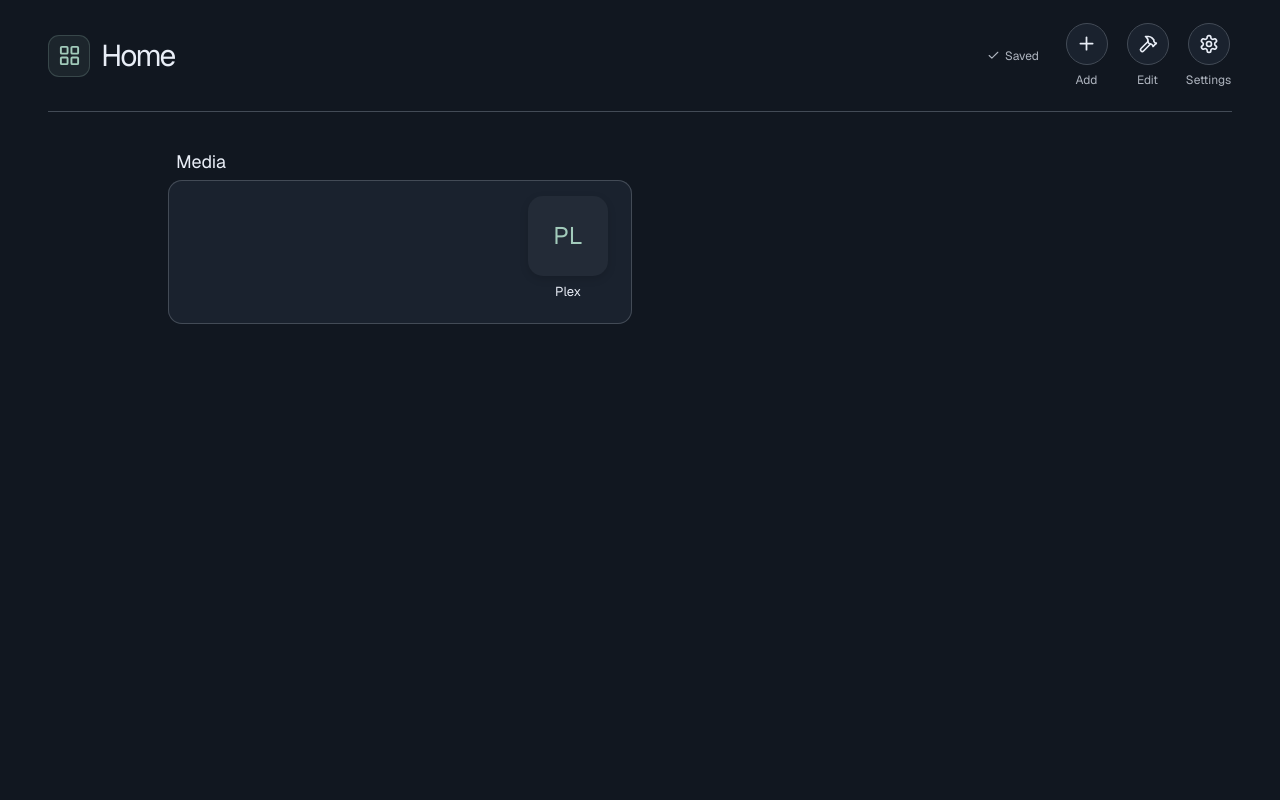
Test: interaction boundary › edits the external title inline without consuming slots
Click the button with aria-label "Edit dashboard": (1148, 56) top-left (1124, 22), bottom-right (1171, 88)
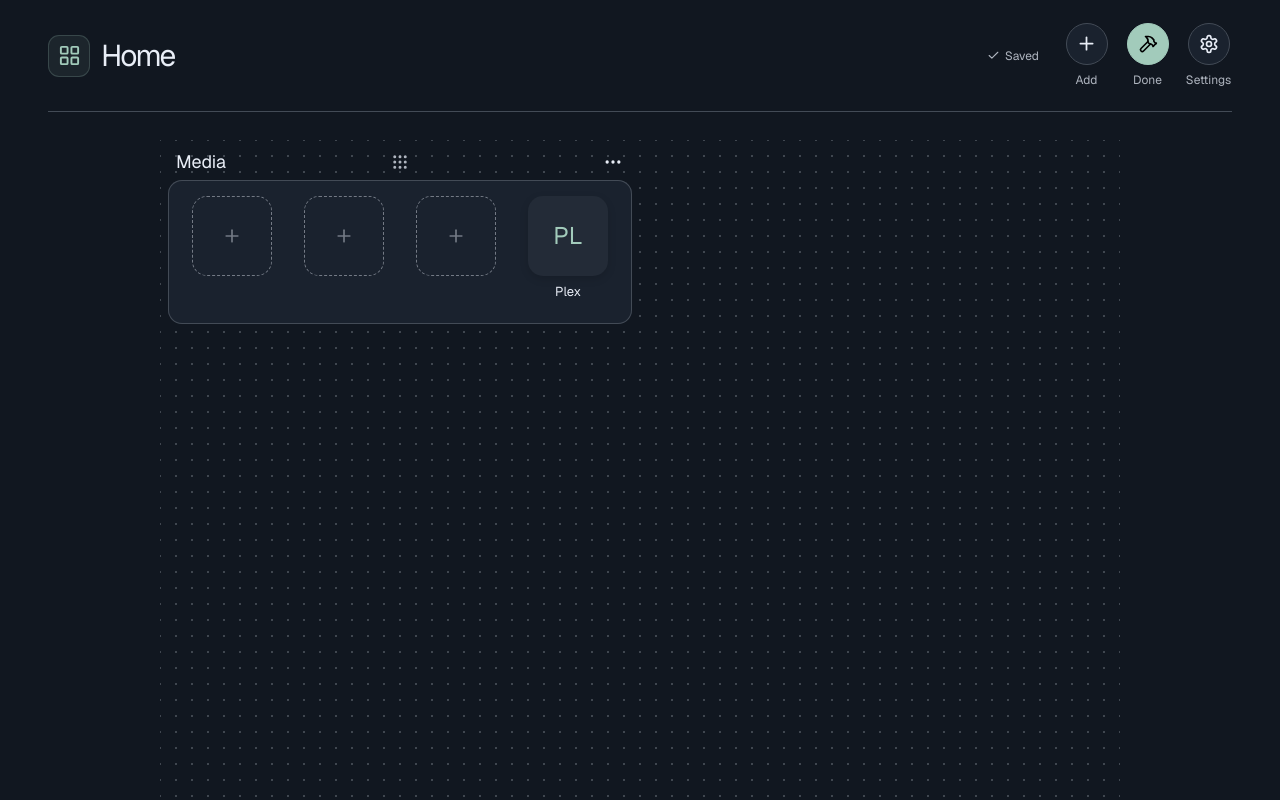
Click the button with aria-label "Edit title: Media": (274, 162) top-left (172, 148), bottom-right (376, 176)
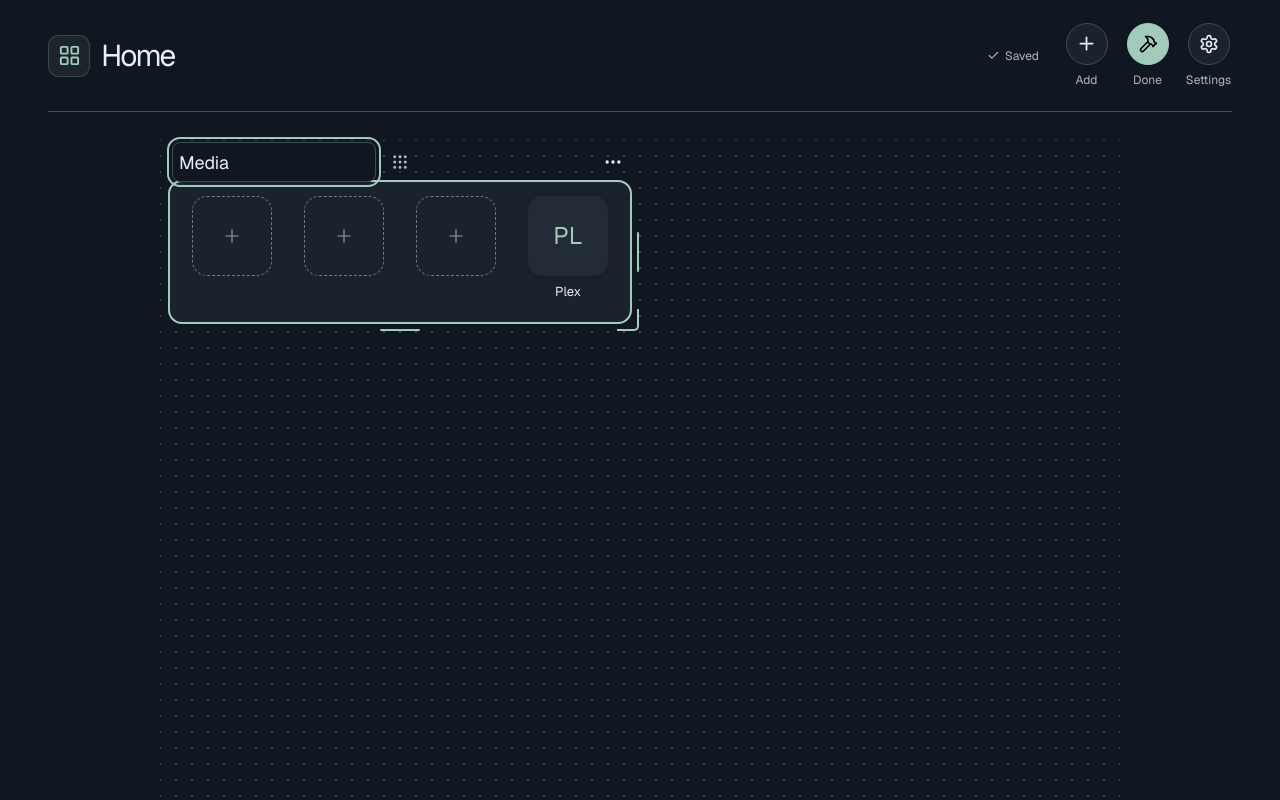
Replace the text in the field named "Pane title" with "My dock": (274, 162) top-left (172, 142), bottom-right (376, 182)
Leave the field named "Pane title", box top-left (172, 142), bottom-right (376, 182)
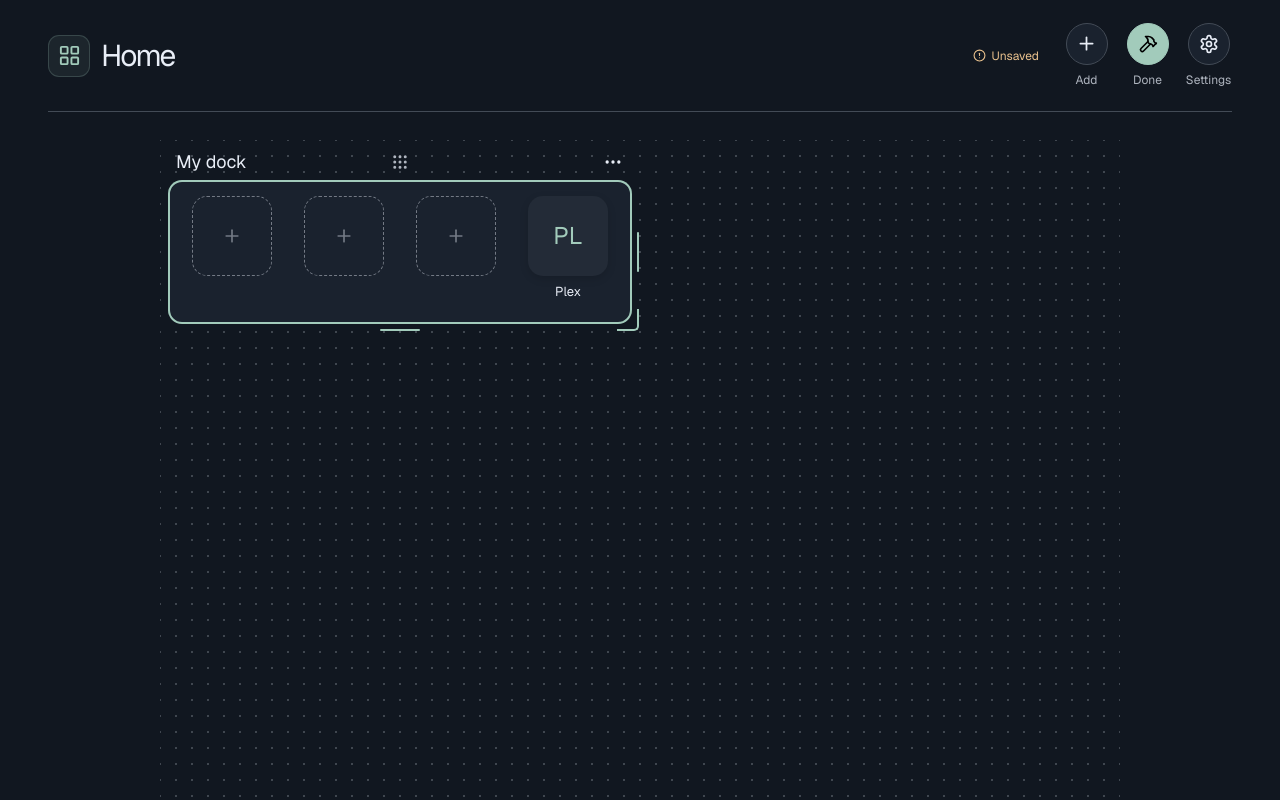
Expected: the number of buttons named "Add app at" is 3, top-left (180, 192), bottom-right (284, 312); top-left (292, 192), bottom-right (396, 312); top-left (404, 192), bottom-right (508, 312)
Expected: the button with aria-label "Edit title: My dock" is shown
Click the button with aria-label "Edit title: My dock": (274, 162) top-left (172, 148), bottom-right (376, 176)
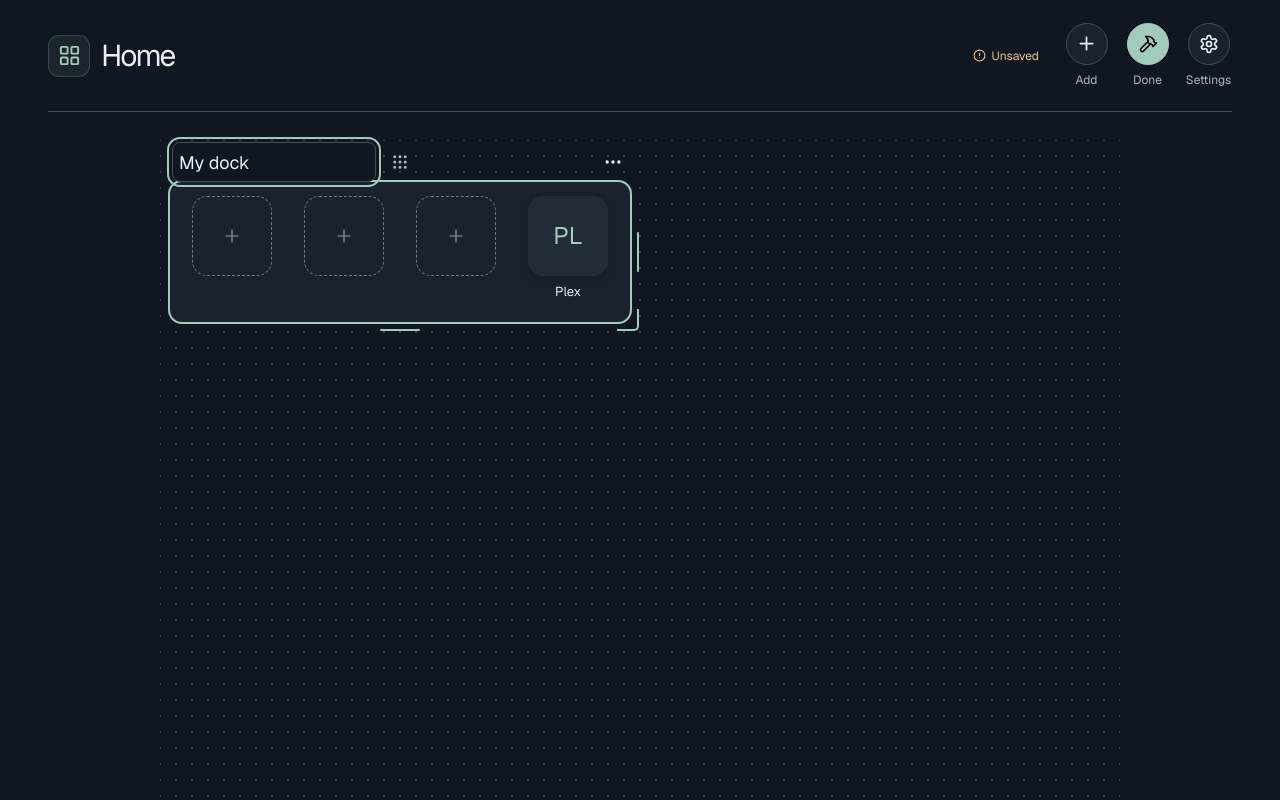
Replace the text in the field named "Pane title" with "Cancelled": (274, 162) top-left (172, 142), bottom-right (376, 182)
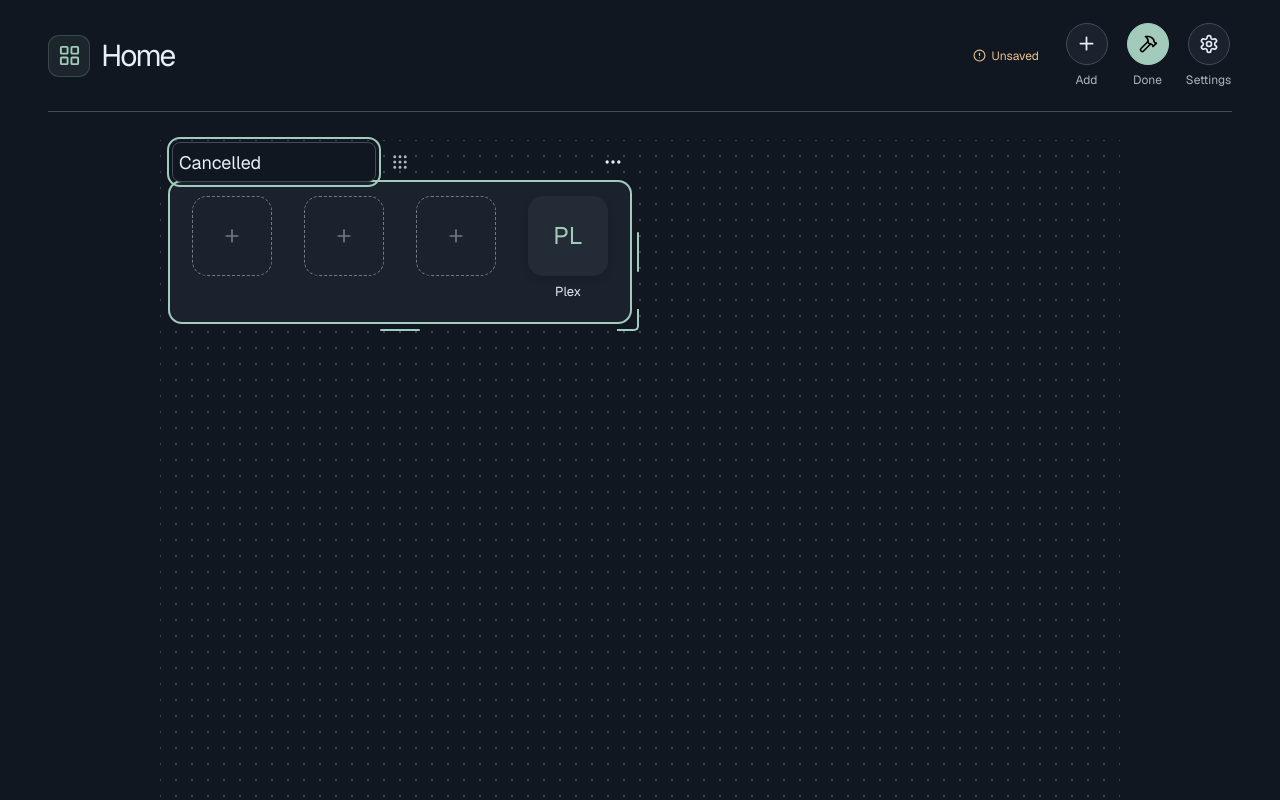
Press Escape in the field named "Pane title", box top-left (172, 142), bottom-right (376, 182)
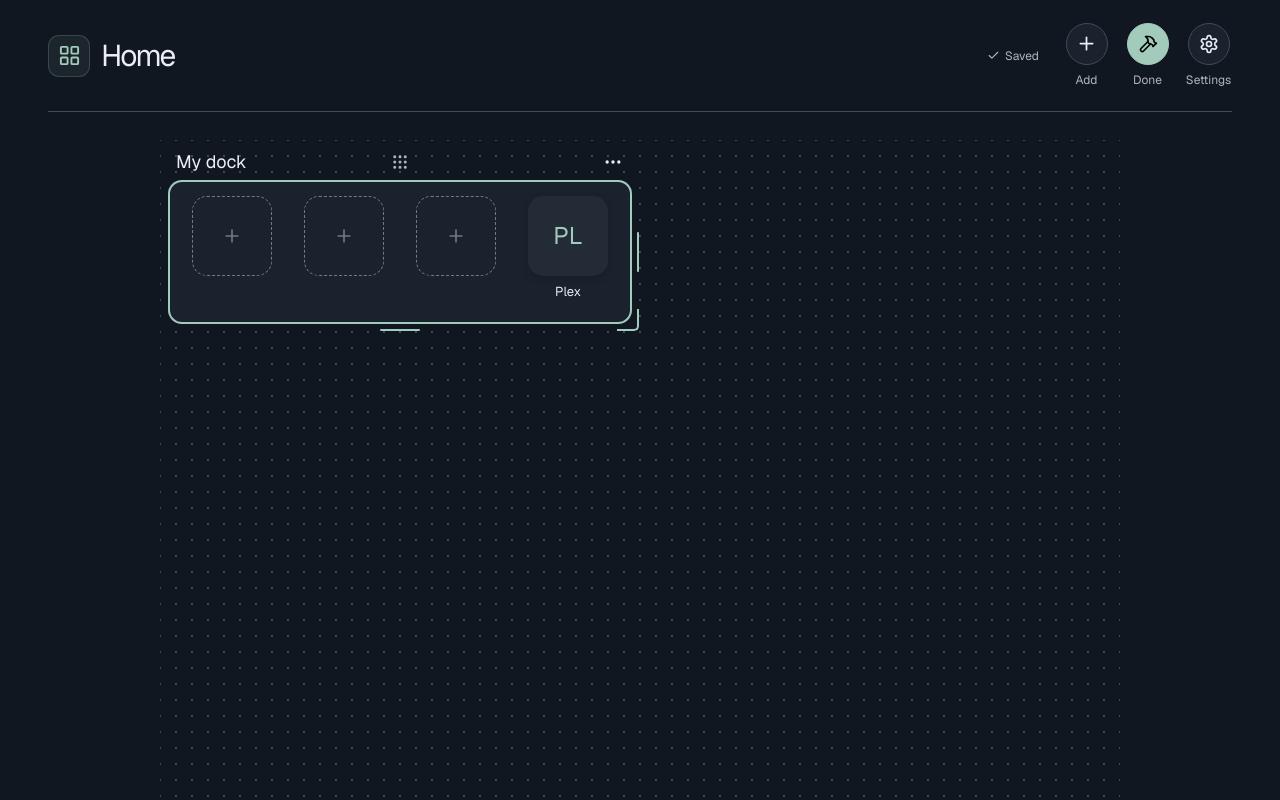
Expected: the button with aria-label "Edit title: My dock" is shown, top-left (172, 148), bottom-right (376, 176)
